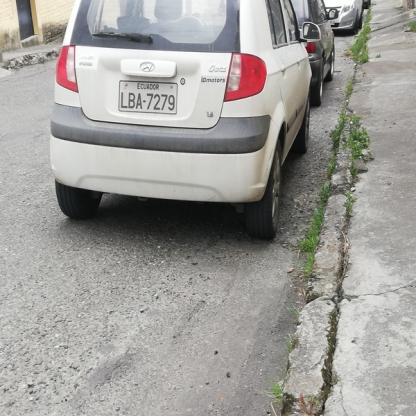Placa: (119, 81, 181, 116)
